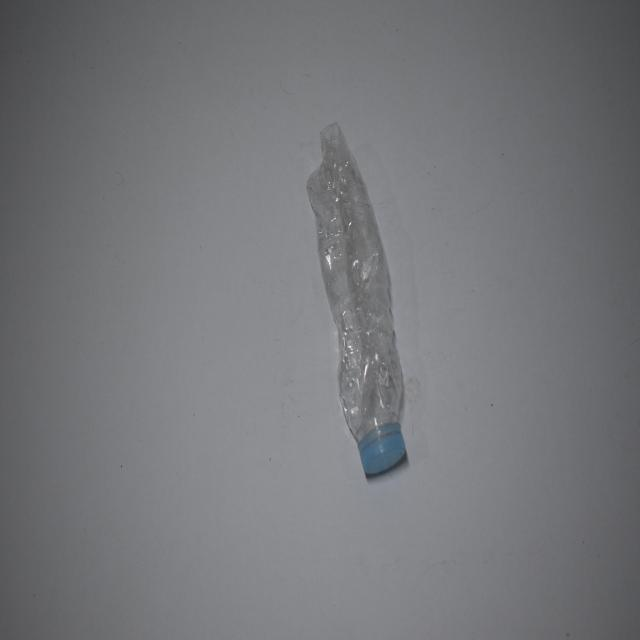bottle: (302, 106, 422, 486)
